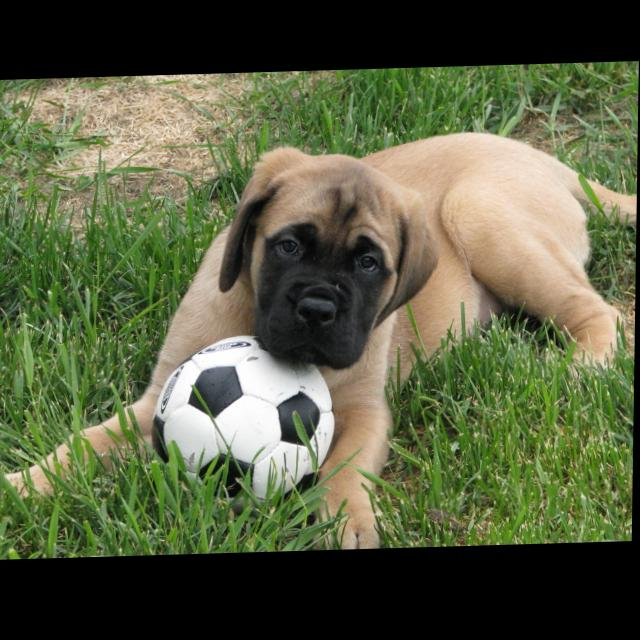mastiff: (1, 131, 639, 562)
